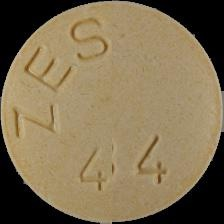0310-0134: (0, 0, 224, 224)
